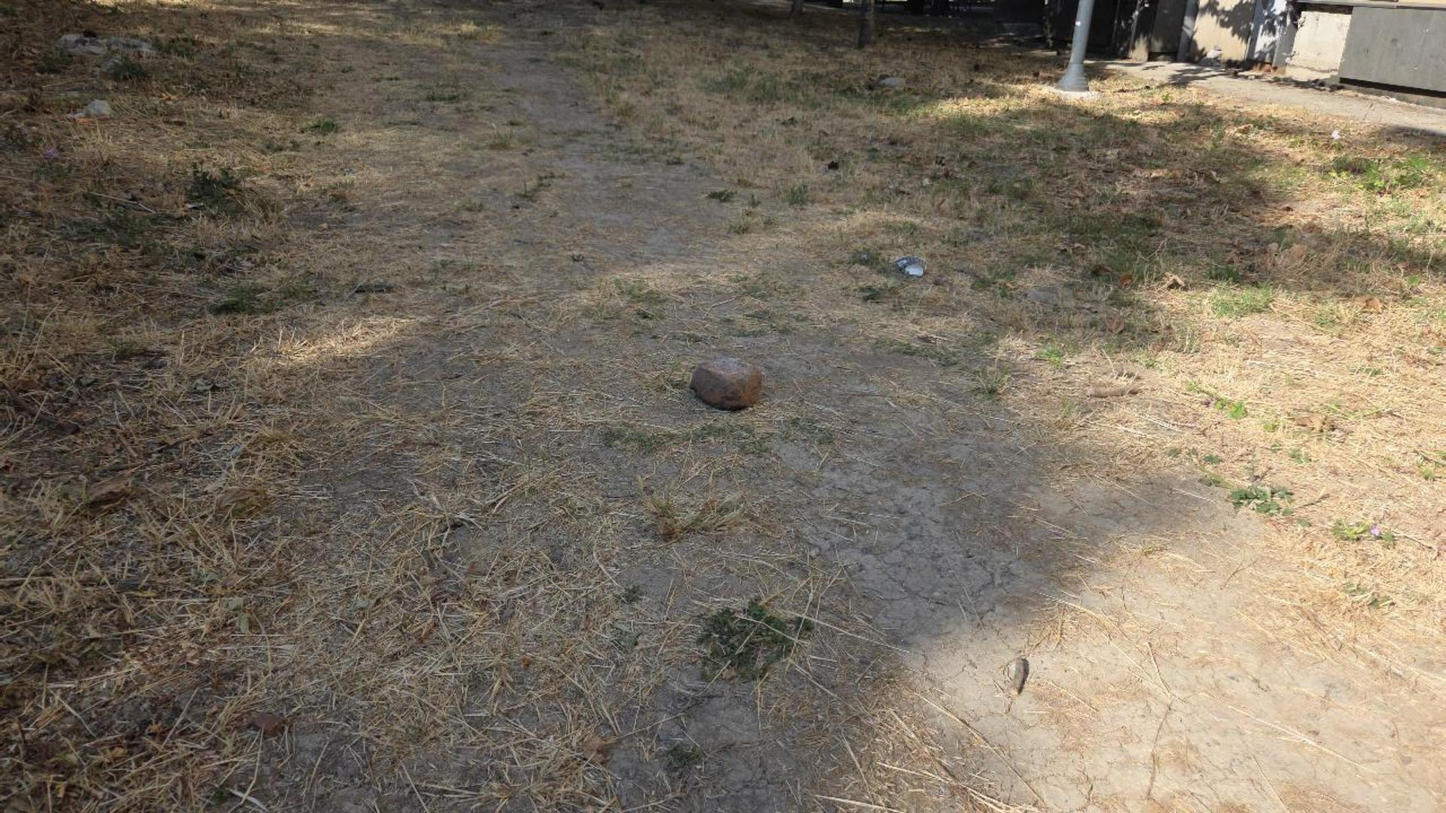rock: (690, 356, 761, 409), (70, 99, 111, 119)
